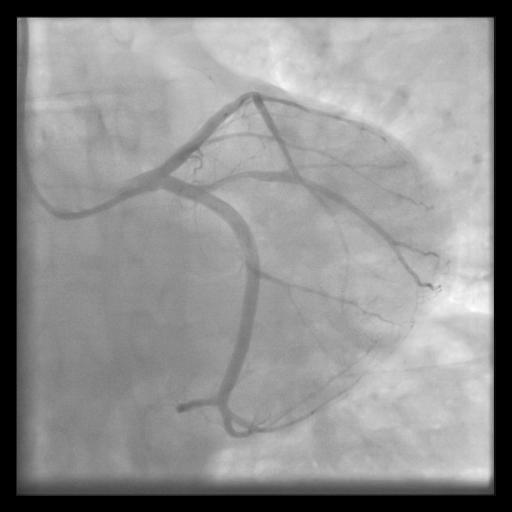Stenosis: (212, 168, 259, 186)
